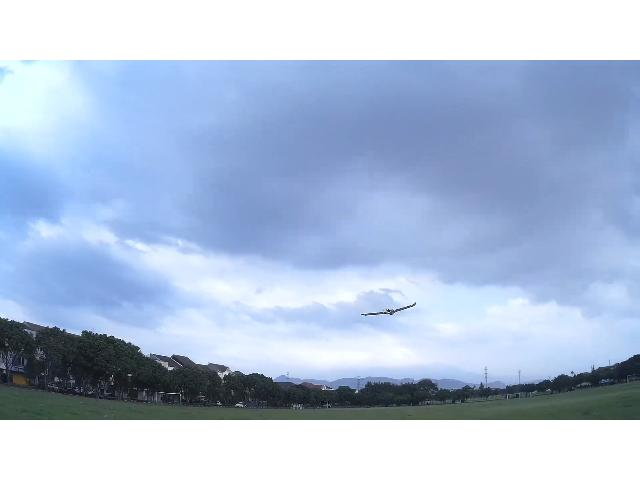Anti-Drone: (360, 302, 416, 320)
